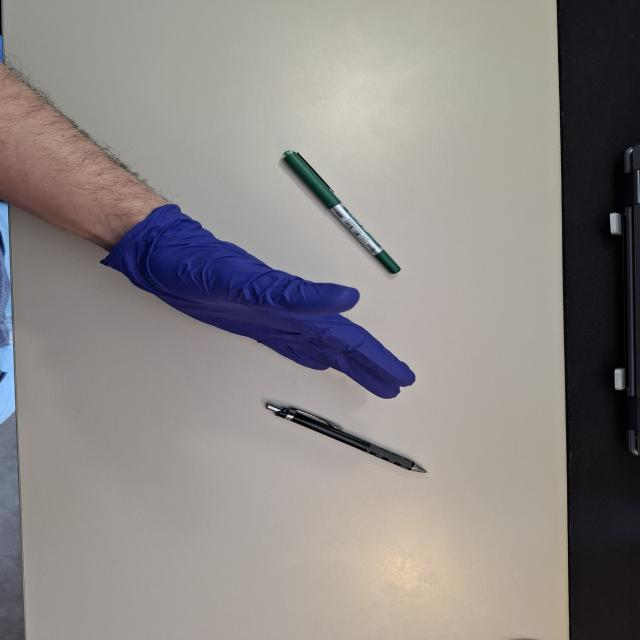glove_on: (95, 201, 419, 399)
